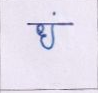anusvara: (52, 12, 56, 15)
